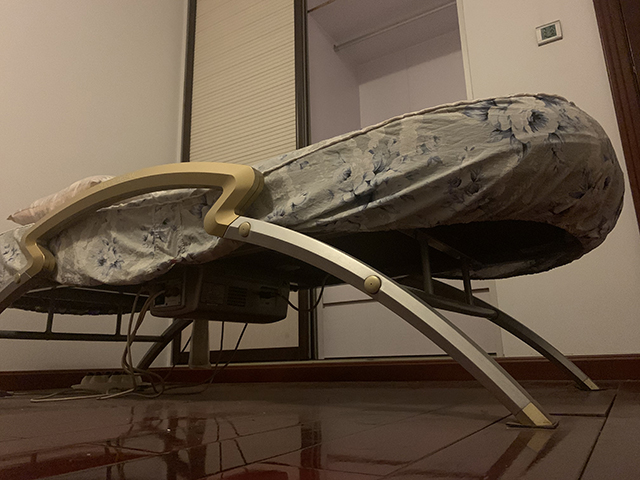cabinet: (163, 1, 503, 374)
stool: (1, 90, 628, 431)
wire: (1, 279, 338, 405)
